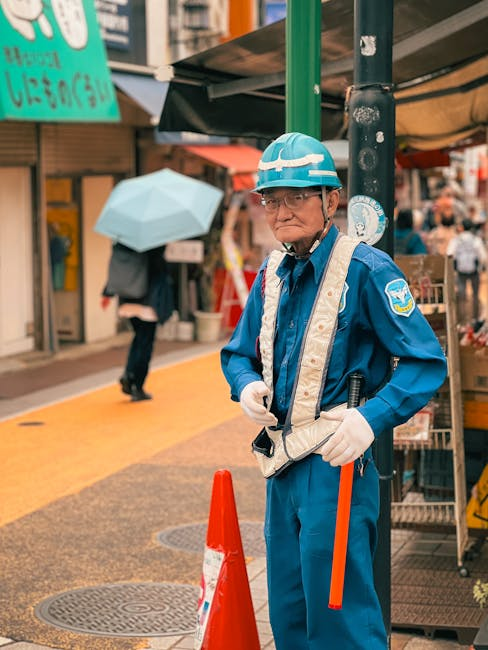traffic_cone: (194, 469, 261, 649)
